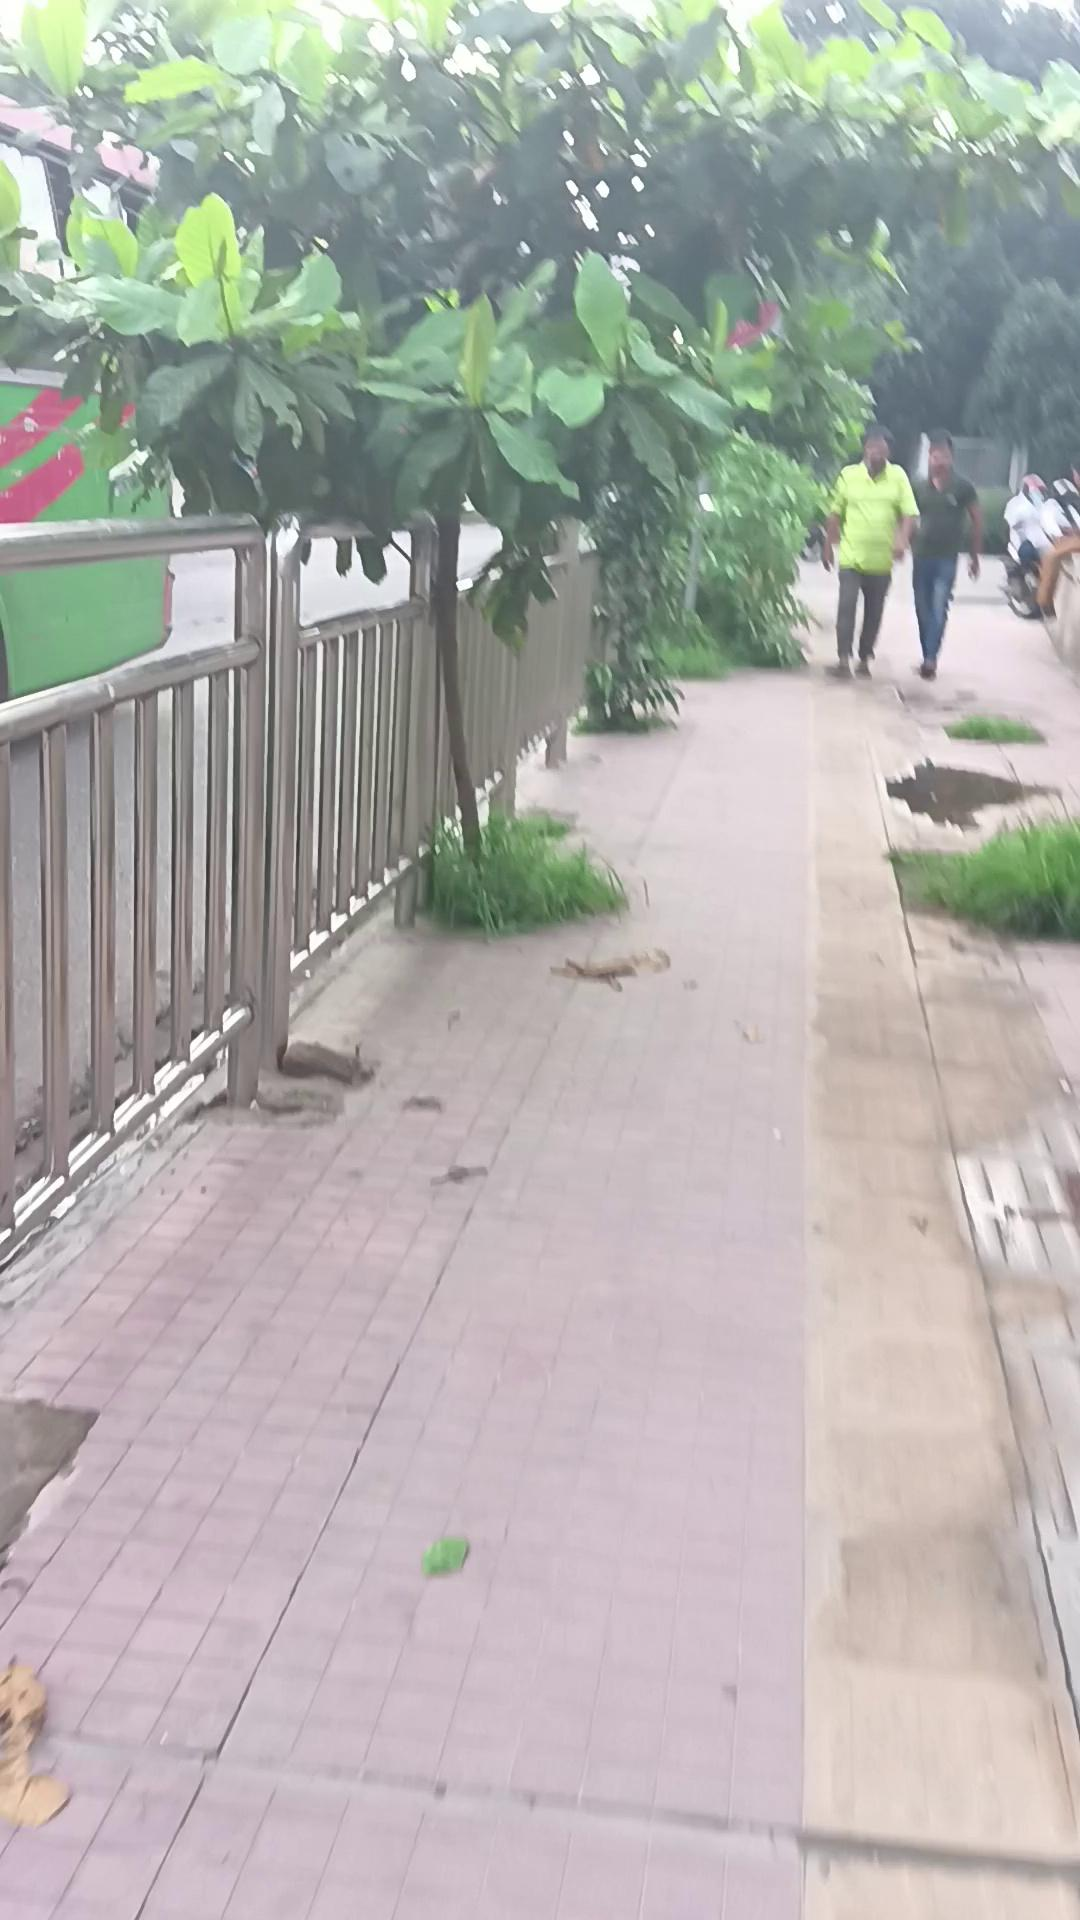Muddy road: (820, 422, 920, 679), (905, 426, 983, 680), (1001, 472, 1060, 616), (1033, 465, 1079, 618)
Potted-plant: (2, 531, 1076, 1915)
Railroad-crossing: (896, 743, 1076, 834)
Traffic-sign: (0, 96, 175, 700)
